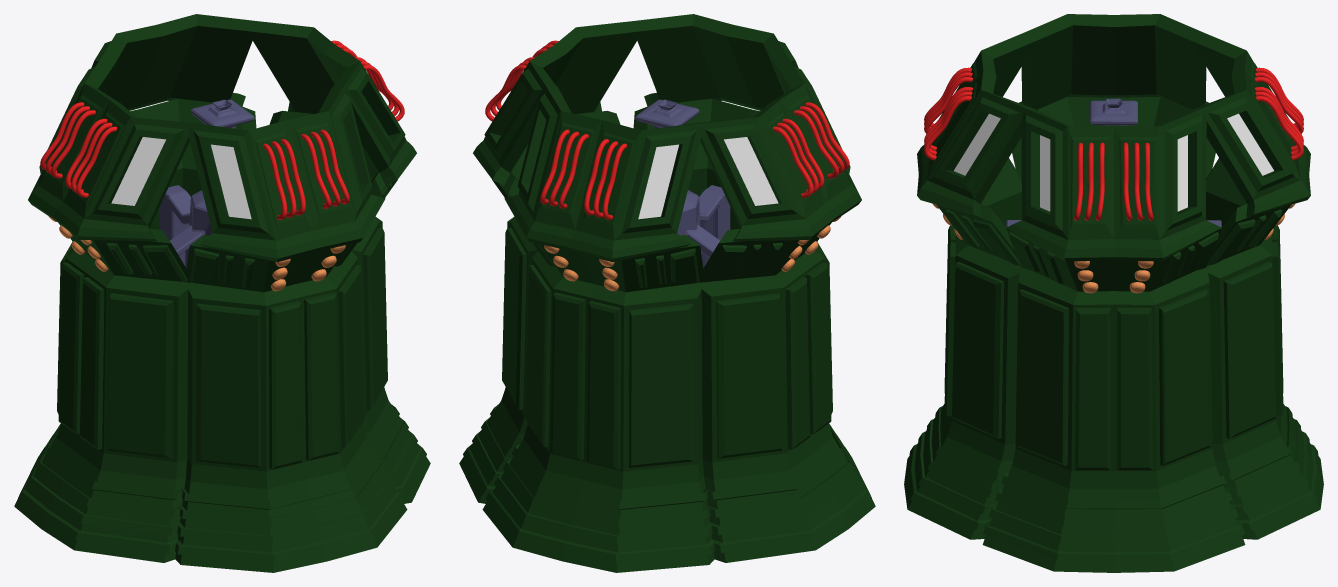
File: Turret Base and Armor sep .fbx
The picture shows the model from 3 angles, left to right: view 1: azimuth 30°, elevation 25°; view 2: azimuth 150°, elevation 25°; view 3: azimuth 270°, elevation 25°; orthographic projection.
Parts seen in each view (by area): view 1: down armor 1.002, down armor 2.002, up armor 1.002, up armor 4.002, up armor 3.002, up armor 2.002, down armor 4.002, torreta buena. a separar, down armor 3.002; view 2: down armor 3.002, down armor 2.002, up armor 3.002, up armor 4.002, up armor 1.002, up armor 2.002, down armor 4.002, torreta buena. a separar, down armor 1.002; view 3: down armor 4.002, down armor 3.002, down armor 1.002, up armor 2.002, up armor 4.002, up armor 1.002, up armor 3.002, down armor 2.002, torreta buena. a separar.
Boxes of the visible parts, x1,y1,x2,y2 form: down armor 1.002: (175,235,407,572); down armor 2.002: (14,216,189,562); up armor 1.002: (185,84,385,262); up armor 4.002: (28,56,197,241); up armor 3.002: (91,14,259,110); up armor 2.002: (247,20,416,185); down armor 4.002: (269,110,430,503); torreta buena. a separar: (159,99,254,267); down armor 3.002: (42,98,256,451); down armor 3.002: (482,235,714,572); down armor 2.002: (700,216,875,562); up armor 3.002: (504,84,704,262); up armor 4.002: (692,56,861,241); up armor 1.002: (630,14,798,110); up armor 2.002: (473,20,642,185); down armor 4.002: (459,110,620,503); torreta buena. a separar: (635,99,730,267); down armor 1.002: (633,98,847,451); down armor 4.002: (982,228,1245,572); down armor 3.002: (1204,158,1323,539); down armor 1.002: (904,158,1023,539); up armor 2.002: (1006,106,1221,261); up armor 4.002: (1019,14,1208,109); up armor 1.002: (917,31,1037,217); up armor 3.002: (1190,31,1310,217); down armor 2.002: (1012,97,1215,178); torreta buena. a separar: (1006,98,1221,227).
Bounding box in the file's own units: 870 × 948 × 870.
